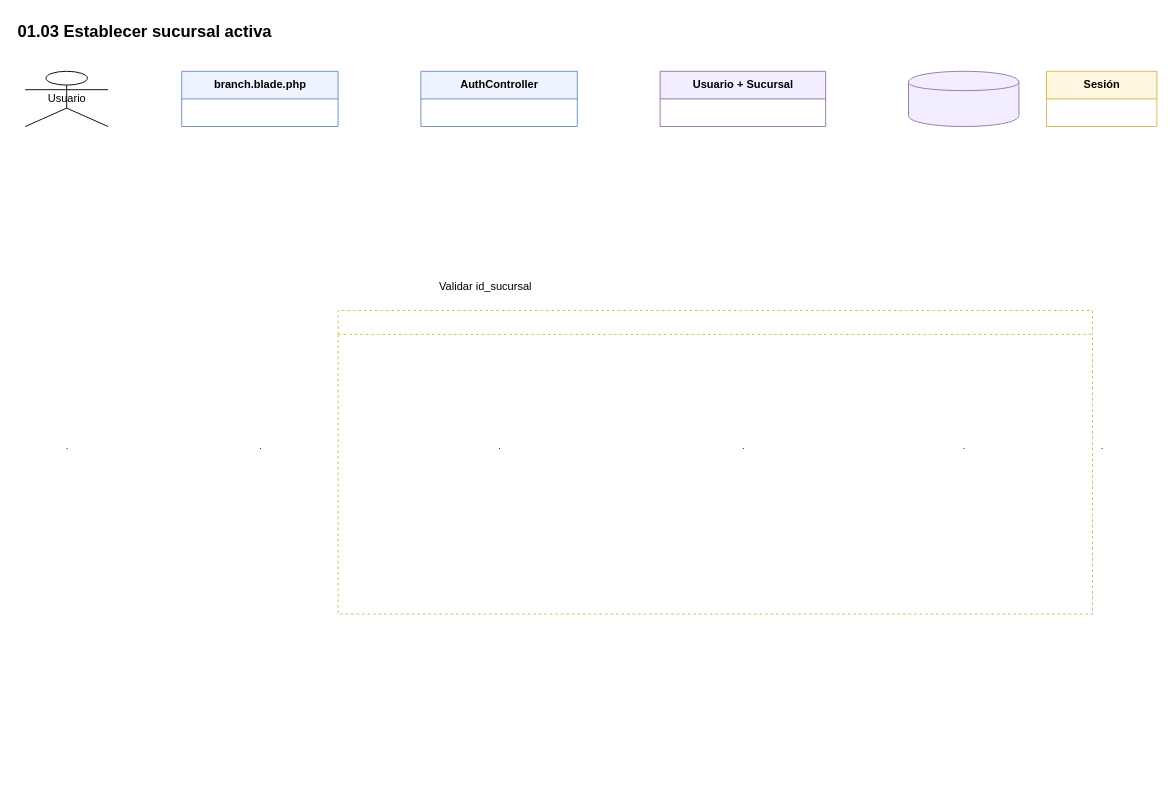
Some shapes in this 1173 by 787 pixel diagram are drawn without their labels. Here are the shapes that lost their labels. From the top down, the centre of each, then its label:
At (963,98): "BD".
At (714,462): "alt — rol y sucursal válidos".
